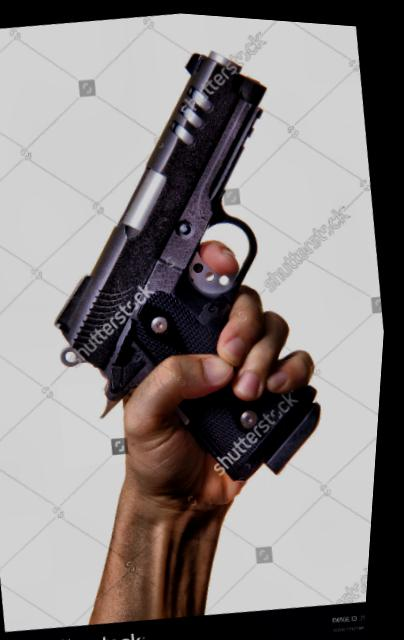pistol: (12, 25, 354, 502)
